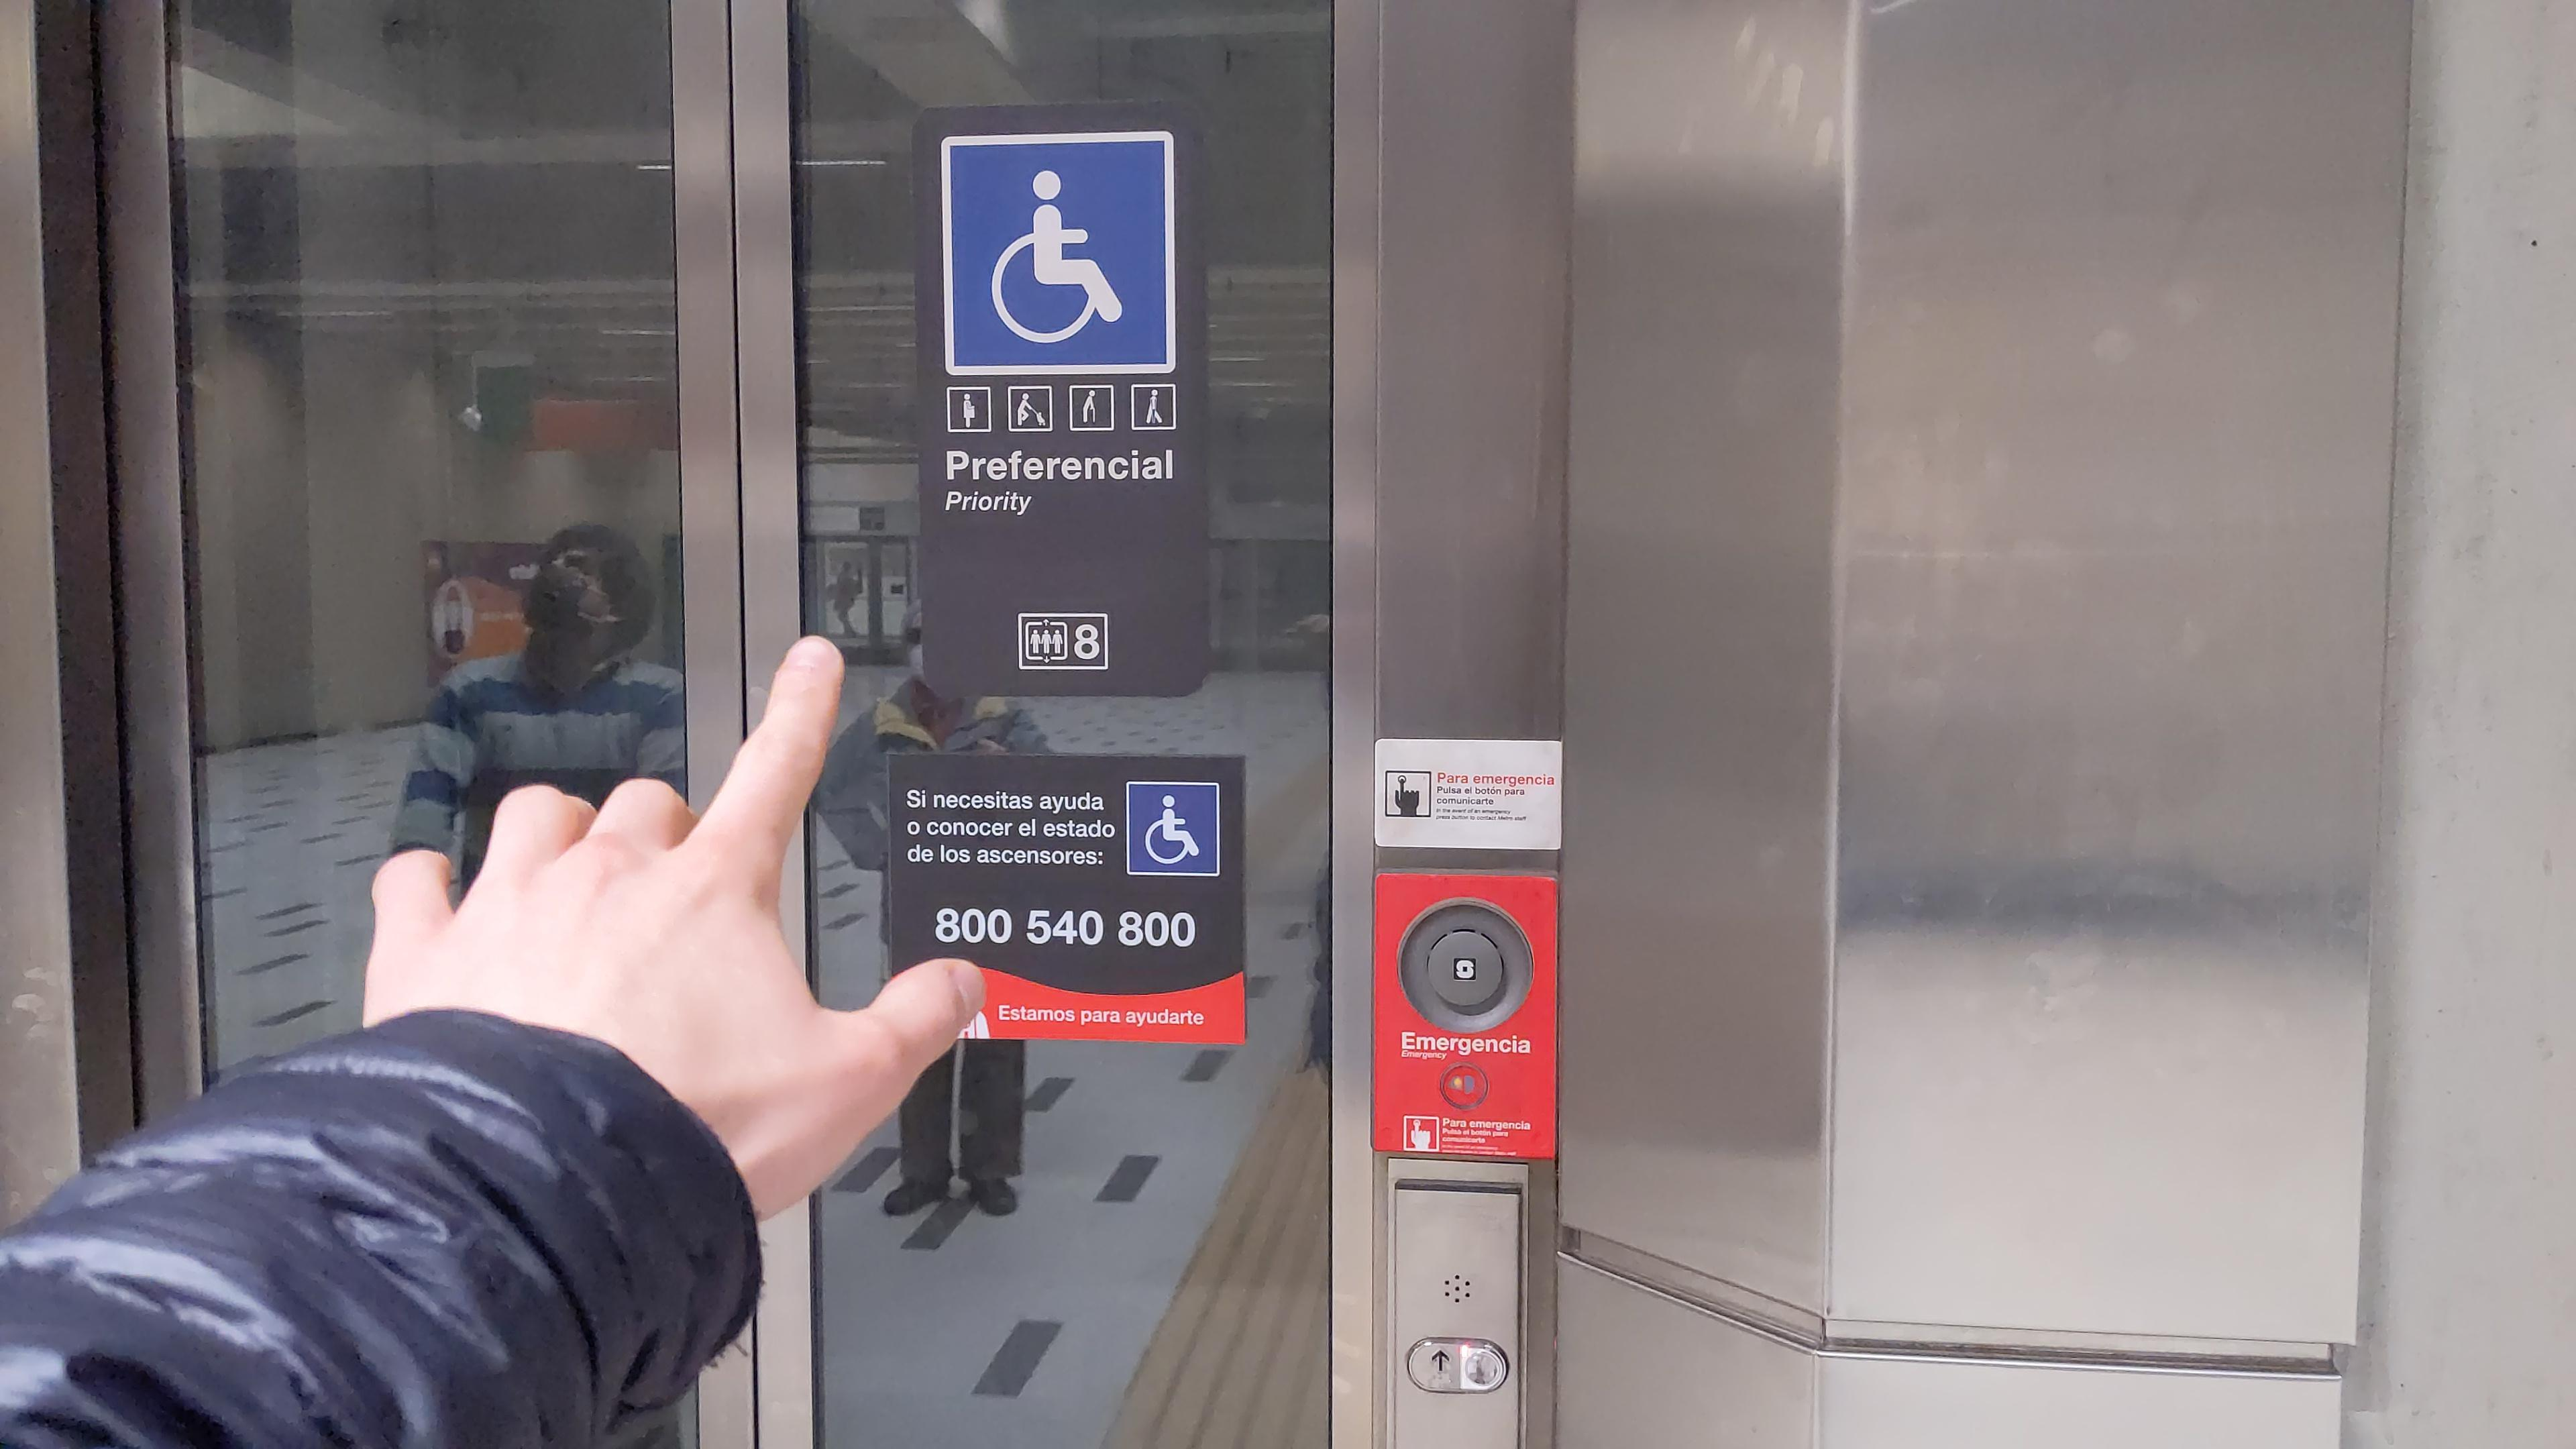handicapped symbol: (982, 163, 1132, 350), (1143, 793, 1201, 867)
